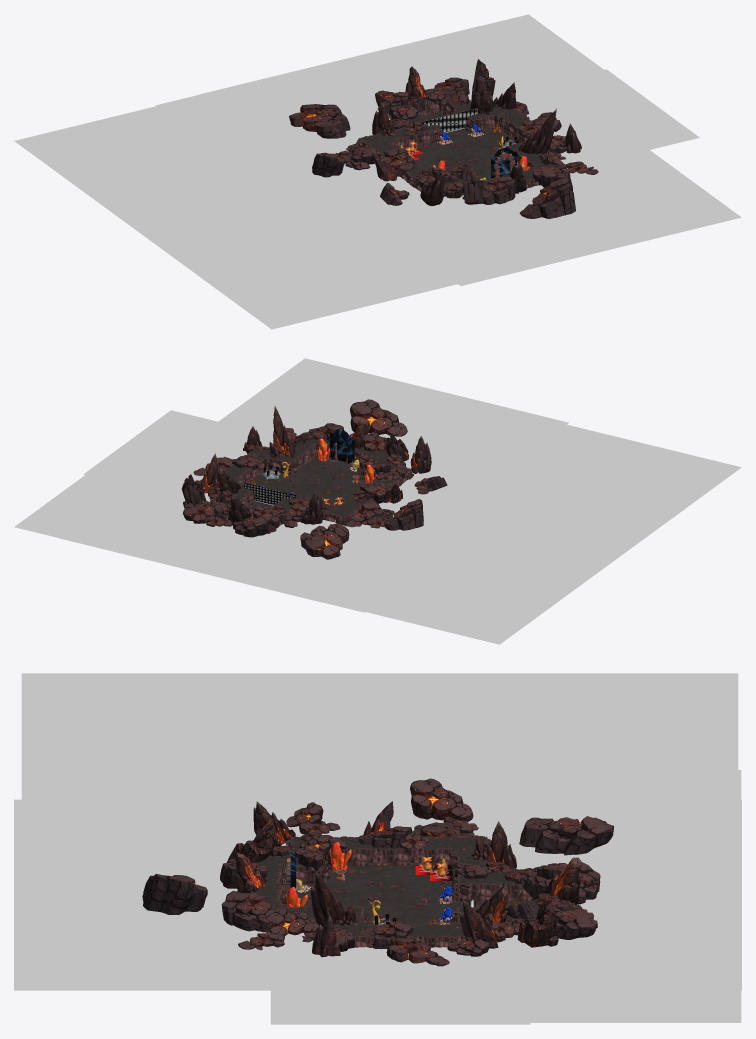
The model's file is LevelMap_1070101.glb.
The picture shows the model from 3 angles, top to bottom: view 1: azimuth 30°, elevation 25°; view 2: azimuth 150°, elevation 25°; view 3: azimuth 270°, elevation 25°; orthographic projection. The views are drawn at different scales.
Visible parts, largest first — view 1: EnvCavern_Detail__Lava_4__u2517, EnvCavern_Detail__Lava_6__u2136, EnvCavern_Detail__Lava_3__u1346, EnvCavern_Detail__Lava_1__u1366, EnvCavern_Detail__Lava_7__u2353, EnvCavern_Detail__Lava_2__u1993, EnvCavern_Detail__Lava_5__u1752, EnvCavern_Detail__Lava__u1583, New_Terrain_2__u2307, EnvCavern_Detail__Rock___3__u2443, EnvCavern_Detail__Rock___3__u2481, EnvCavern_Detail__Rock___2__u2317 (+8 smaller); view 2: EnvCavern_Detail__Lava_4__u2517, EnvCavern_Detail__Lava_6__u2136, EnvCavern_Detail__Lava_3__u1346, EnvCavern_Detail__Lava_7__u2353, EnvCavern_Detail__Lava_1__u1366, EnvCavern_Detail__Lava_2__u1993, EnvCavern_Detail__Lava__u1583, EnvCavern_Detail__Lava_5__u1752, New_Terrain_2__u2307, EnvCavern_Detail__Rock___3__u2481, EnvCavern_Detail__Rock___3__u2443, EnvCavern_Detail__Rock___3__u2000 (+8 smaller); view 3: EnvCavern_Detail__Lava_4__u2517, EnvCavern_Detail__Lava_6__u2136, EnvCavern_Detail__Lava_1__u1366, EnvCavern_Detail__Lava_3__u1346, EnvCavern_Detail__Lava_2__u1993, EnvCavern_Detail__Lava_7__u2353, EnvCavern_Detail__Lava__u1583, New_Terrain_2__u2307, EnvCavern_Detail__Lava_5__u1752, EnvCavern_Detail__Rock___3__u2443, EnvCavern_Detail__Rock___3__u2481, EnvCavern_Detail__Rock___3__u2000 (+19 smaller).
Part boxes in pixels (<box>): EnvCavern_Detail__Lava_4__u2517: <box>14,75,542,329</box>; EnvCavern_Detail__Lava_6__u2136: <box>365,147,741,285</box>; EnvCavern_Detail__Lava_3__u1346: <box>155,63,390,173</box>; EnvCavern_Detail__Lava_1__u1366: <box>391,14,621,105</box>; EnvCavern_Detail__Lava_7__u2353: <box>199,26,549,144</box>; EnvCavern_Detail__Lava_2__u1993: <box>493,69,699,162</box>; EnvCavern_Detail__Lava_5__u1752: <box>376,192,555,269</box>; EnvCavern_Detail__Lava__u1583: <box>560,135,715,223</box>; New_Terrain_2__u2307: <box>406,128,519,180</box>; EnvCavern_Detail__Rock___3__u2443: <box>289,104,350,138</box>; EnvCavern_Detail__Rock___3__u2481: <box>519,176,575,218</box>; EnvCavern_Detail__Rock___2__u2317: <box>518,108,556,154</box>; EnvCavern_Detail__Lava_4__u2517: <box>255,405,741,644</box>; EnvCavern_Detail__Lava_6__u2136: <box>218,358,569,484</box>; EnvCavern_Detail__Lava_3__u1346: <box>204,520,452,612</box>; EnvCavern_Detail__Lava_7__u2353: <box>59,490,389,602</box>; EnvCavern_Detail__Lava_1__u1366: <box>14,463,210,558</box>; EnvCavern_Detail__Lava_2__u1993: <box>83,410,273,501</box>; EnvCavern_Detail__Lava__u1583: <box>202,374,369,447</box>; EnvCavern_Detail__Lava_5__u1752: <box>404,408,533,491</box>; New_Terrain_2__u2307: <box>250,455,365,504</box>; EnvCavern_Detail__Rock___3__u2481: <box>350,399,407,436</box>; EnvCavern_Detail__Rock___3__u2443: <box>300,523,349,559</box>; EnvCavern_Detail__Rock___3__u2000: <box>384,499,423,530</box>; EnvCavern_Detail__Lava_4__u2517: <box>21,673,738,837</box>; EnvCavern_Detail__Lava_6__u2136: <box>14,799,281,990</box>; EnvCavern_Detail__Lava_1__u1366: <box>481,929,741,1022</box>; EnvCavern_Detail__Lava_3__u1346: <box>481,770,741,885</box>; EnvCavern_Detail__Lava_2__u1993: <box>270,939,530,1024</box>; EnvCavern_Detail__Lava_7__u2353: <box>546,799,741,990</box>; EnvCavern_Detail__Lava__u1583: <box>73,929,332,987</box>; New_Terrain_2__u2307: <box>285,865,467,925</box>; EnvCavern_Detail__Lava_5__u1752: <box>55,815,303,873</box>; EnvCavern_Detail__Rock___3__u2443: <box>519,816,614,855</box>; EnvCavern_Detail__Rock___3__u2481: <box>142,873,207,914</box>; EnvCavern_Detail__Rock___3__u2000: <box>410,778,473,821</box>.
Bounding box in the file's own units: 80.11 × 10.65 × 70.14.
Materials: 37 (36 with a texture image).
